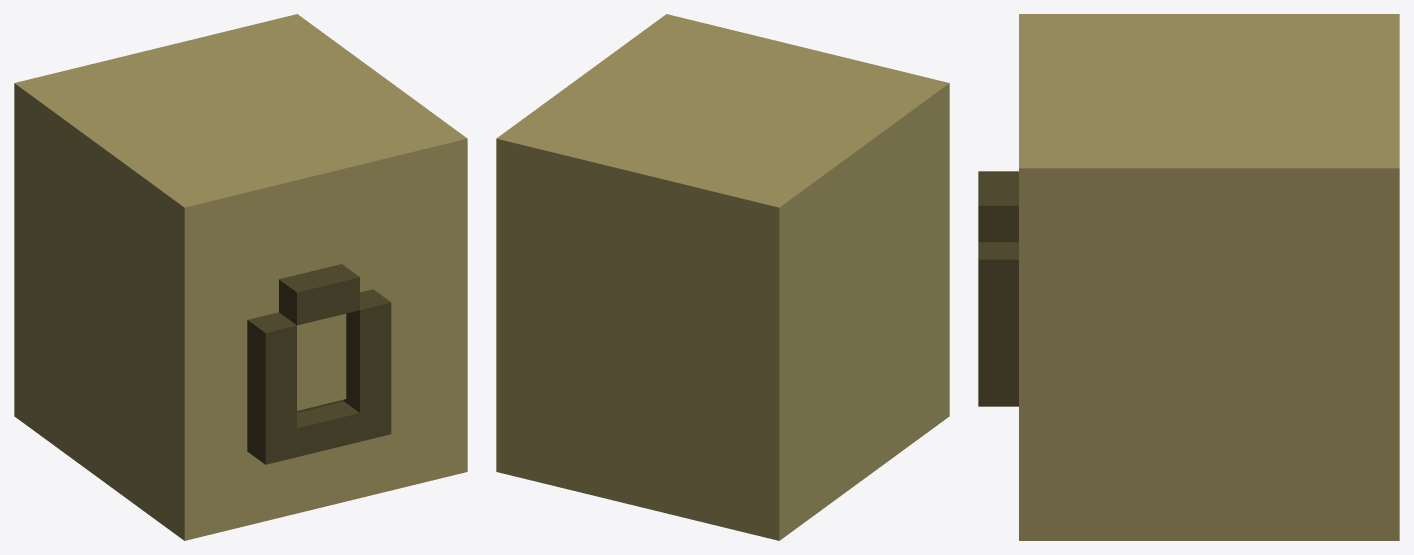
Rendered from sandtower_1.0-9.obj.
The picture shows the model from 3 angles, left to right: view 1: azimuth 30°, elevation 25°; view 2: azimuth 150°, elevation 25°; view 3: azimuth 270°, elevation 25°; orthographic projection. The views are drawn at different scales.
Size of the model in its own units: 14.4 by 16.2 by 16.6.
Materials: 1 (1 with a texture image).
